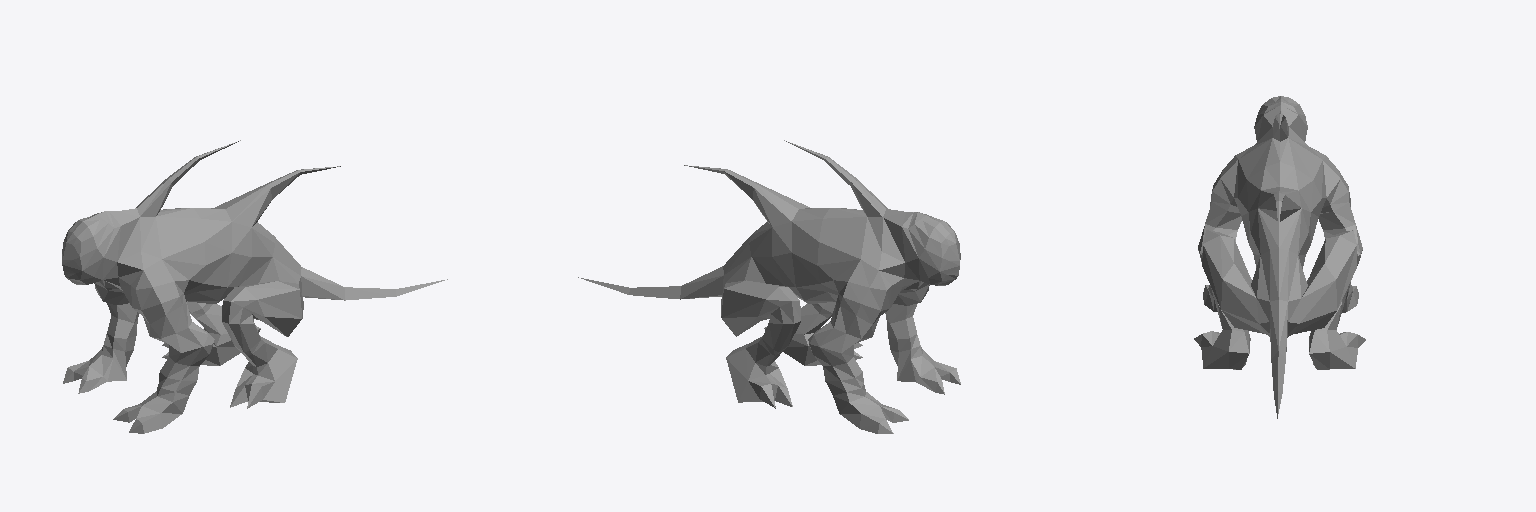
File: monster1.obj
3 views of the same model, side by side, from view 1: azimuth 30°, elevation 25°; view 2: azimuth 150°, elevation 25°; view 3: azimuth 270°, elevation 25° (orthographic).
Parts seen in each view (by area): view 1: Mesh_monster; view 2: Mesh_monster; view 3: Mesh_monster.
Part boxes in pixels (bbox=[...]): Mesh_monster: bbox=[62, 140, 447, 433]; Mesh_monster: bbox=[578, 140, 960, 433]; Mesh_monster: bbox=[1194, 96, 1365, 418].
Size of the model in its own units: 3.89 by 2.3 by 1.51.